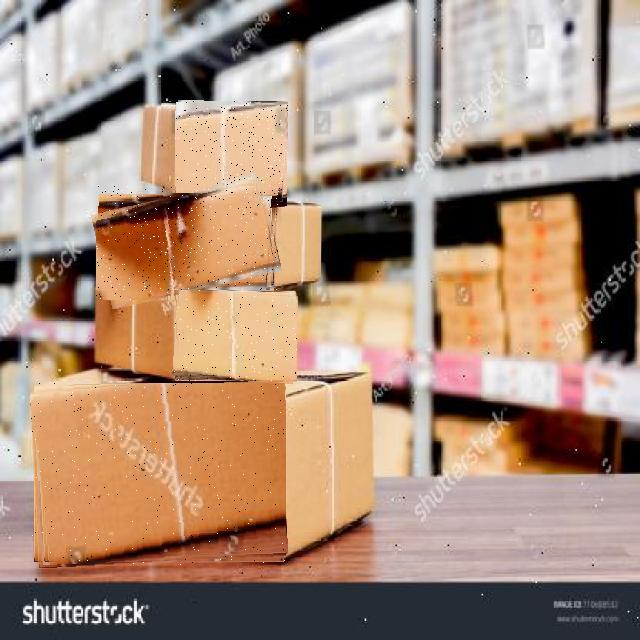BoxFace: (32, 383, 286, 565), (96, 185, 278, 300), (175, 101, 288, 207), (174, 290, 297, 382)
